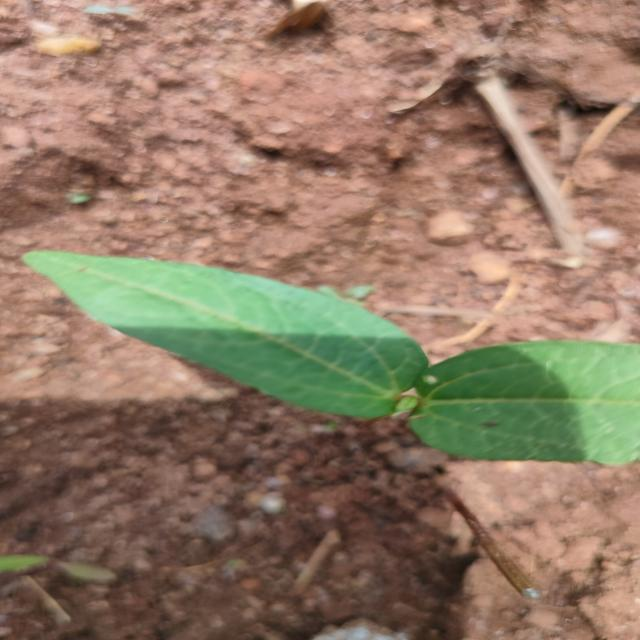Black gram_healthy: (11, 250, 420, 419), (400, 339, 640, 464)
